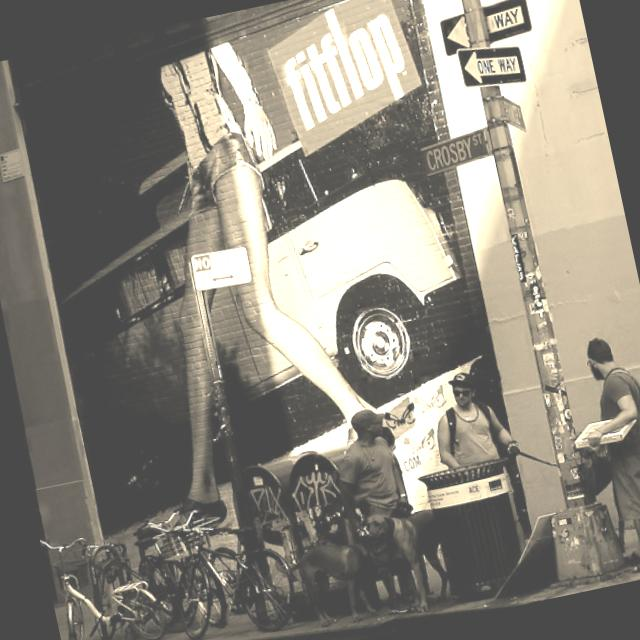Vehicle: (40, 115, 492, 494)
